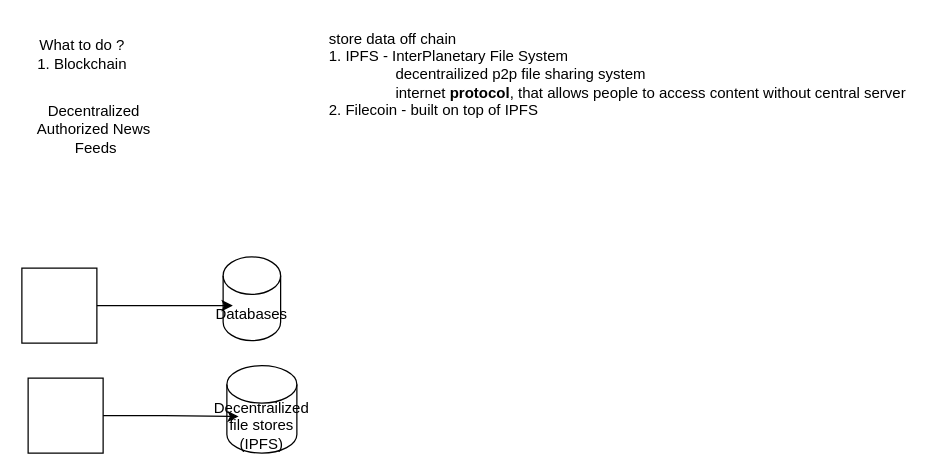
Some shapes in this 949 by 475 pixel diagram are drawn without their labels. The shapes that lost their labels are listed below. From the top down, each one's box as (x1, y1, x2, y2) in pixels, then its label:
(21, 267, 97, 343): Backend
(27, 377, 103, 453): Smart Contract
